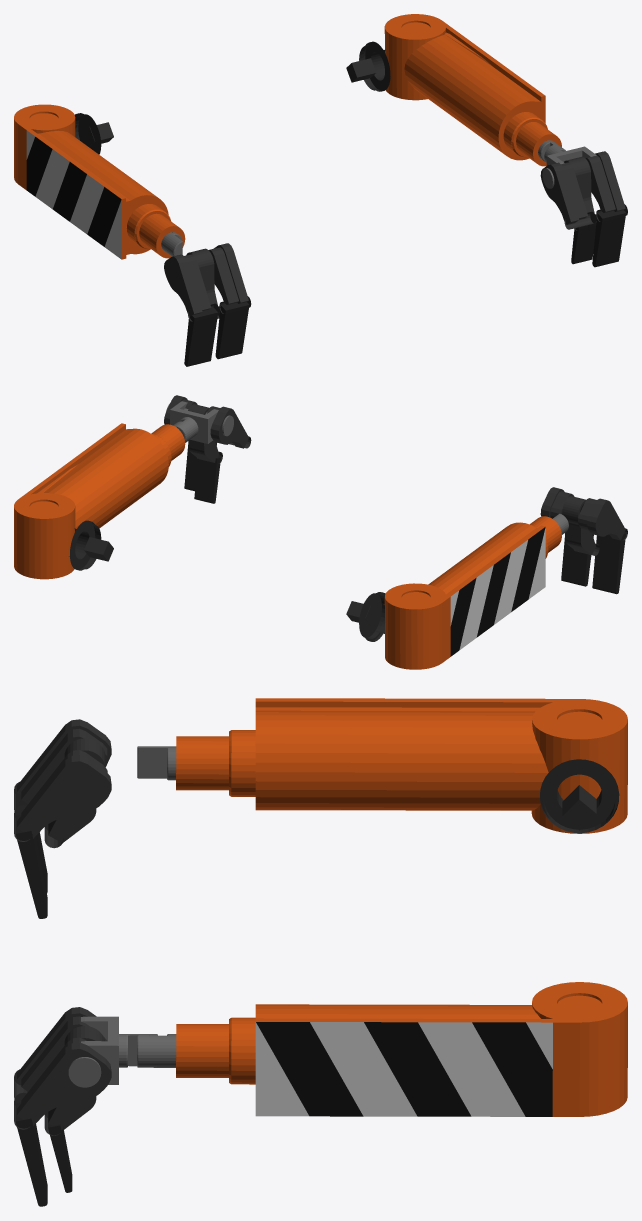
File: walle_tangan.obj
3 views of the same model, one above another, from view 1: azimuth 30°, elevation 25°; view 2: azimuth 150°, elevation 25°; view 3: azimuth 270°, elevation 25° (orthographic). The views are drawn at different scales.
Visible parts, largest first — view 1: arm_v.002; view 2: arm_v.002; view 3: arm_v.002.
Part boxes in pixels (x1=…): arm_v.002: x1=14, y1=14, x2=627, y2=366; arm_v.002: x1=14, y1=395, x2=627, y2=669; arm_v.002: x1=14, y1=698, x2=627, y2=1206.
Bounding box in the file's own units: 4.72 × 1.21 × 3.69.
